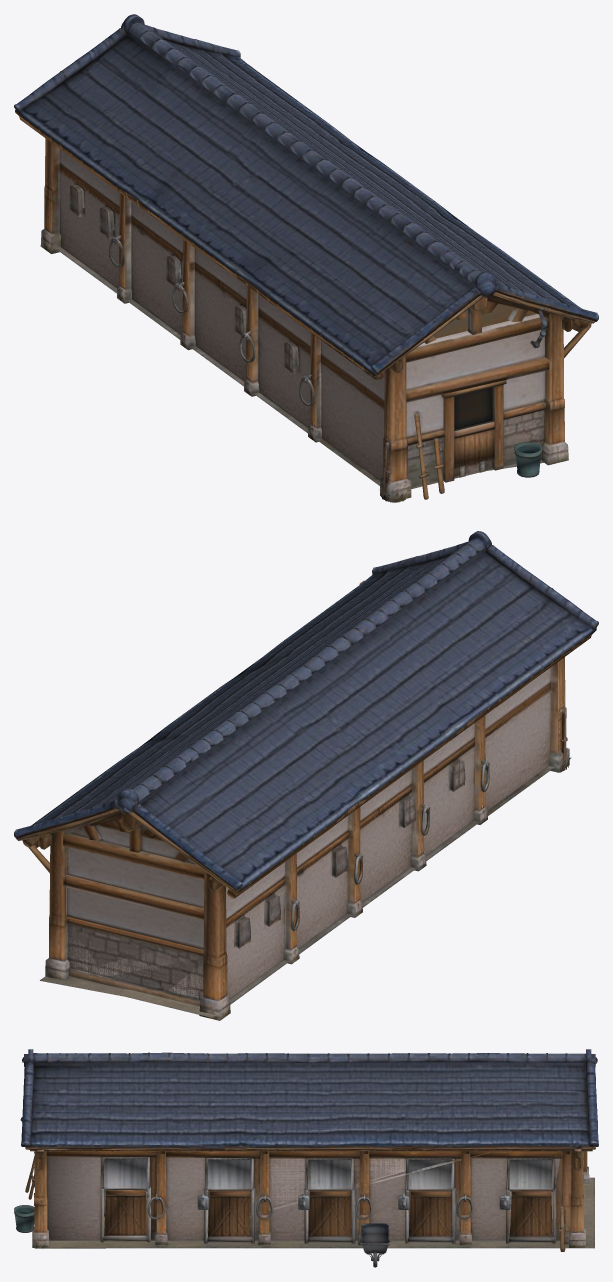
The model's file is stable.glb.
3 renders of one model, top to bottom at view 1: azimuth 30°, elevation 25°; view 2: azimuth 150°, elevation 25°; view 3: azimuth 270°, elevation 25°, orthographic. The views are drawn at different scales.
Parts seen in each view (by area): view 1: tripo_node_24320ee7-3648-44b1-a89f-26bb0fe692e7; view 2: tripo_node_24320ee7-3648-44b1-a89f-26bb0fe692e7; view 3: tripo_node_24320ee7-3648-44b1-a89f-26bb0fe692e7.
Part boxes in pixels (bbox=[...]): tripo_node_24320ee7-3648-44b1-a89f-26bb0fe692e7: bbox=[14, 14, 598, 502]; tripo_node_24320ee7-3648-44b1-a89f-26bb0fe692e7: bbox=[14, 531, 598, 1020]; tripo_node_24320ee7-3648-44b1-a89f-26bb0fe692e7: bbox=[14, 1049, 598, 1267].
Size of the model in its own units: 0.4009 by 0.3135 by 0.9995.
1 material, 1 textured.
